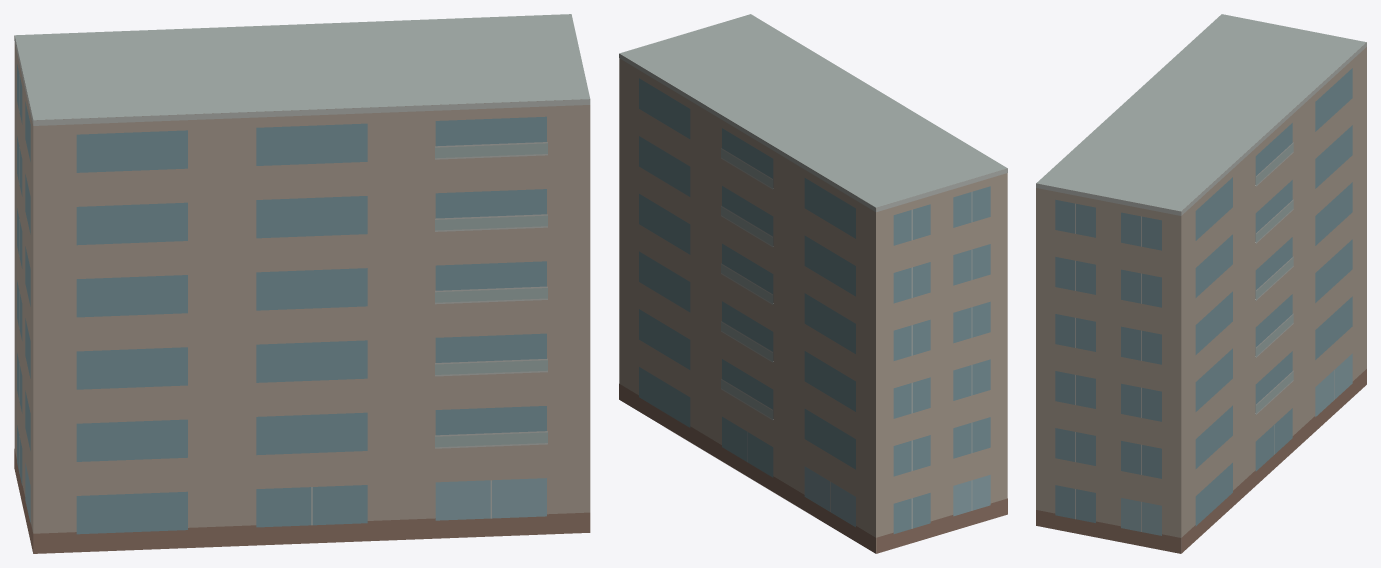
File: survey-upis-32845156.glb
The picture shows the model from 3 angles, left to right: view 1: azimuth 30°, elevation 25°; view 2: azimuth 150°, elevation 25°; view 3: azimuth 270°, elevation 25°; orthographic projection. The views are drawn at different scales.
Parts seen in each view (by area): view 1: survey-upis-32845156.tmp; view 2: survey-upis-32845156.tmp; view 3: survey-upis-32845156.tmp.
Boxes of the visible parts, bbox=[...] form: survey-upis-32845156.tmp: bbox=[14, 14, 590, 553]; survey-upis-32845156.tmp: bbox=[619, 14, 1007, 553]; survey-upis-32845156.tmp: bbox=[1036, 14, 1366, 553].
Size of the model in its own units: 22.64 by 18.3 by 16.03.
